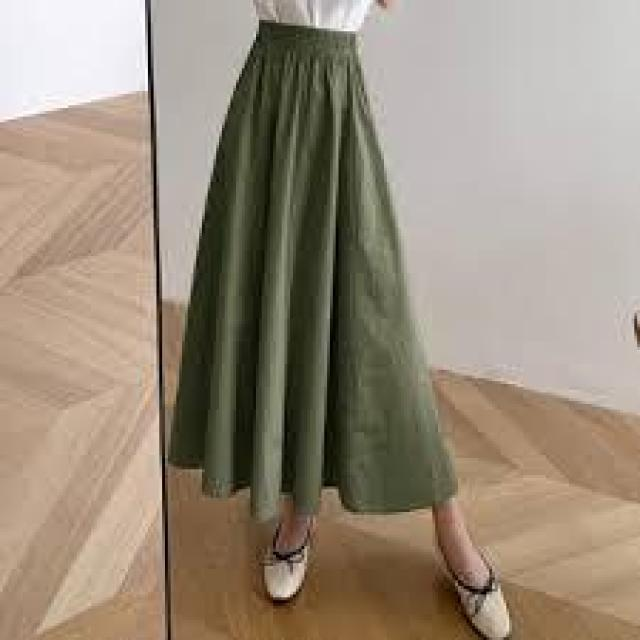skirt: (166, 17, 465, 512)
